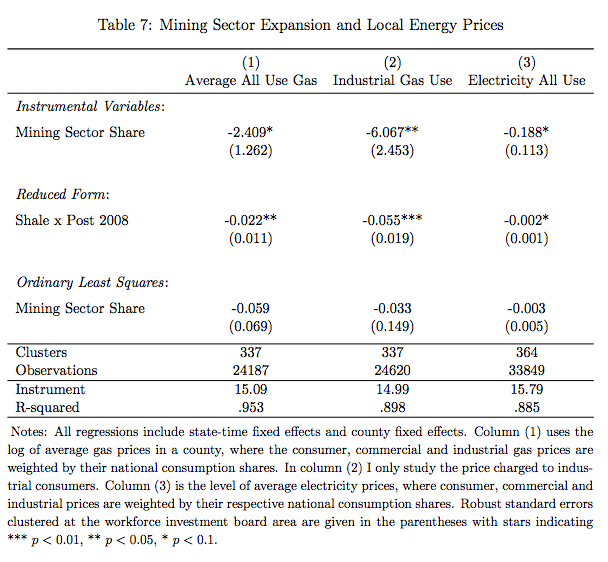fracking table: (8, 14, 600, 421)
